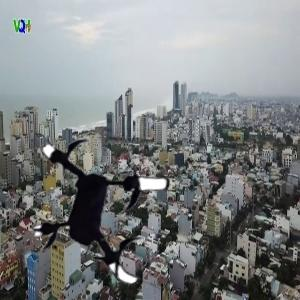drone: (21, 125, 190, 294)
